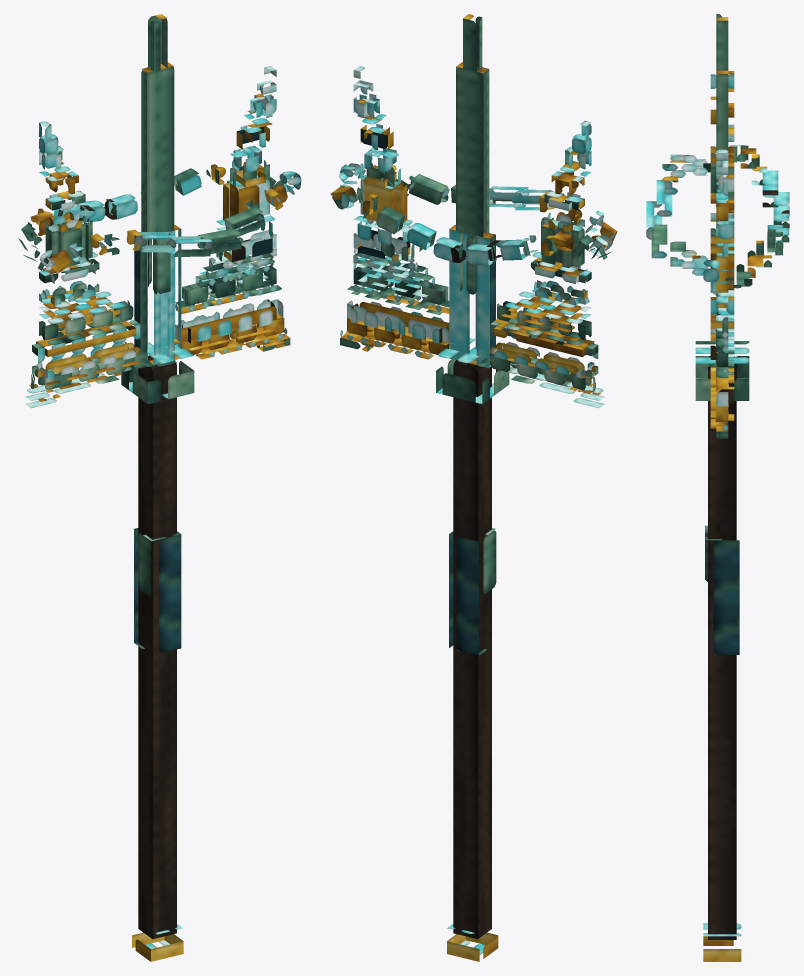
Rendered from tidecallers_trident.obj.
The picture shows the model from 3 angles, left to right: view 1: azimuth 30°, elevation 25°; view 2: azimuth 150°, elevation 25°; view 3: azimuth 270°, elevation 25°; orthographic projection.
Visible parts, largest first — view 1: lit, fire; view 2: lit, fire; view 3: lit, fire.
Boxes of the visible parts, x1,y1,x2,y2 form: lit: [26, 14, 290, 961]; fire: [18, 160, 301, 272]; lit: [340, 14, 604, 961]; fire: [330, 163, 617, 265]; lit: [695, 14, 749, 961]; fire: [646, 145, 789, 288].
Bounding box in the file's own units: 1.25 × 4.09 × 0.5658.
